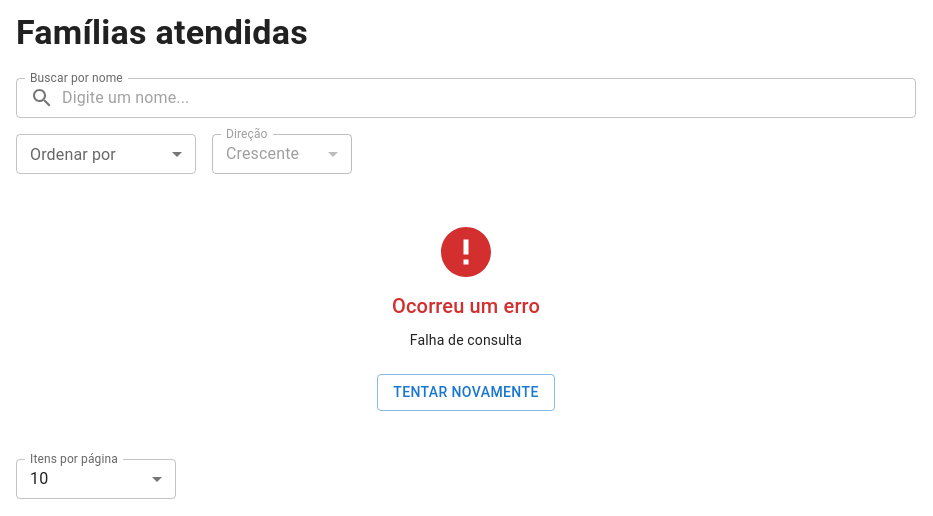
Test: Listagem real de famílias › mostra vazio e permite recuperar um erro sem recriar feedback
Expected: the text "Falha de consulta" is shown, [410,330,522,350]
What coordinates should you click on to do the following:
click the button "Tentar Novamente"
I would click on:
 (466, 392)
Its box is [377,374,555,410].
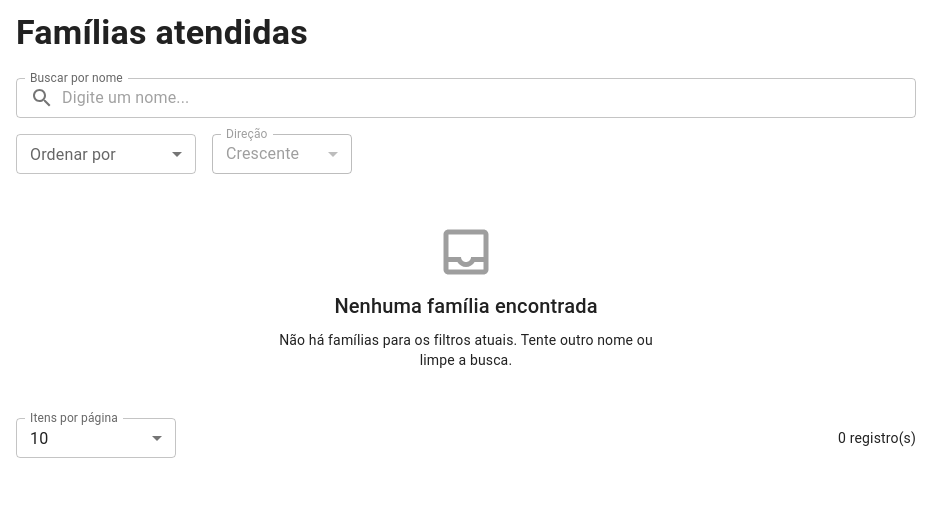
Expected: the field labelled "Buscar por nome" is enabled, [62,78,916,118]
Expected: the heading "Nenhuma família encontrada" is shown, [334,290,598,322]
